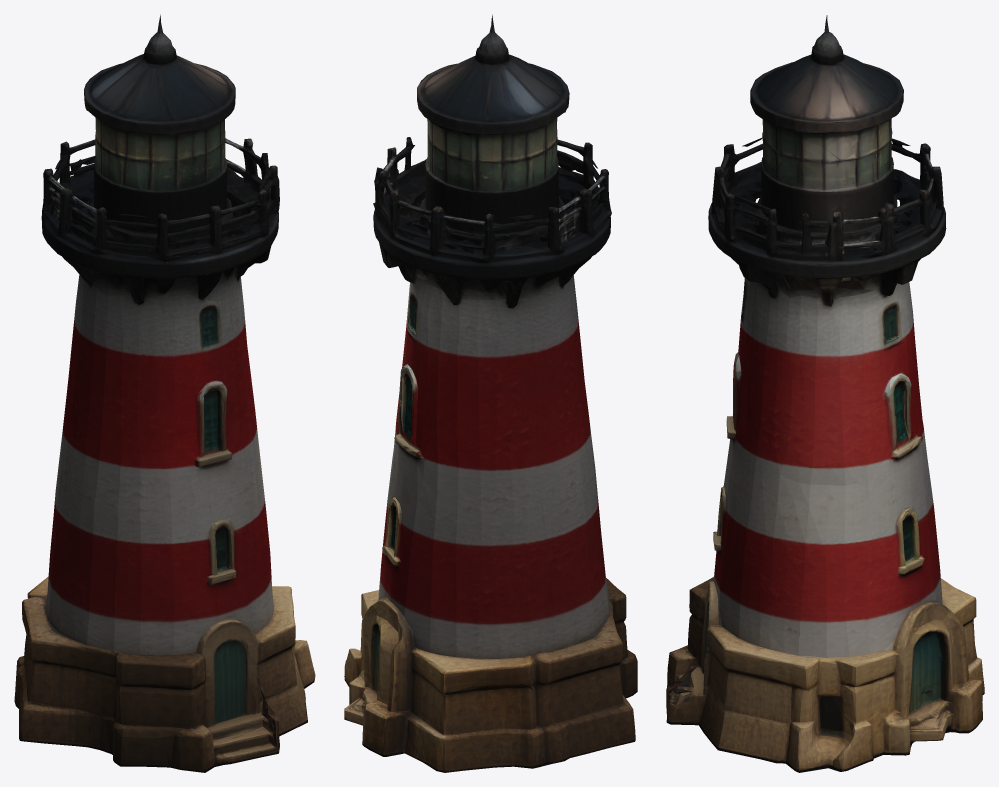
The model's file is hb_lighthouse.glb.
3 renders of one model, left to right at view 1: azimuth 30°, elevation 25°; view 2: azimuth 150°, elevation 25°; view 3: azimuth 270°, elevation 25°, orthographic.
Visible parts, largest first — view 1: world; view 2: world; view 3: world.
Part boxes in pixels (left/top/right/bottom): world: left=14, top=14, right=315, bottom=772; world: left=344, top=14, right=637, bottom=772; world: left=666, top=15, right=984, bottom=772.
Size of the model in its own units: 0.4262 by 0.9973 by 0.4163.
Materials: 1 (1 with a texture image).
